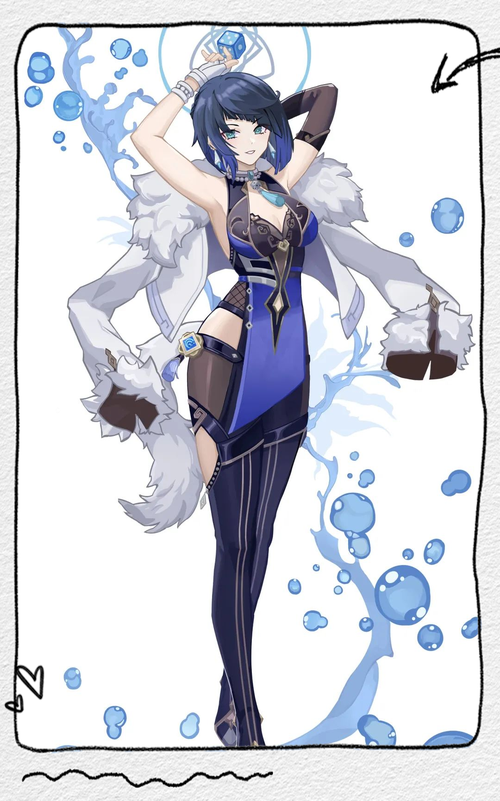夜兰: (130, 27, 341, 751)
